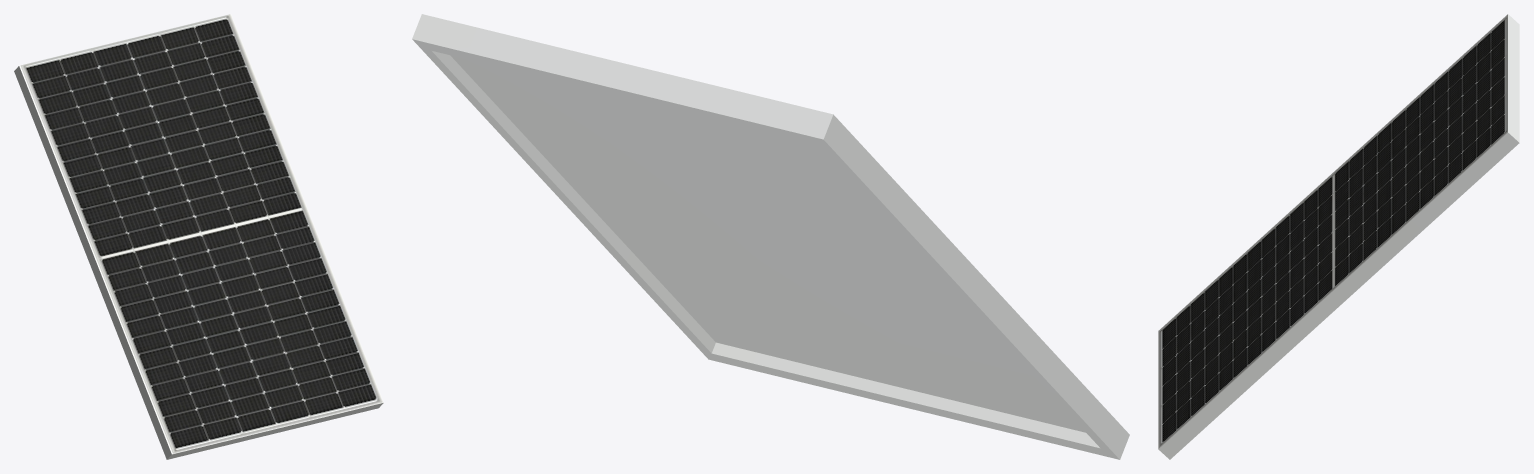
Rendered from solar_panel_fbx.glb.
3 views of the same model, side by side, from view 1: azimuth 30°, elevation 25°; view 2: azimuth 150°, elevation 25°; view 3: azimuth 270°, elevation 25° (orthographic). The views are drawn at different scales.
Parts seen in each view (by area): view 1: Cube; view 2: Cube; view 3: Cube.
Part boxes in pixels (x1,y1,x2,y2): Cube: (14,14,383,459); Cube: (412,14,1129,459); Cube: (1158,14,1519,459).
Bounding box in the file's own units: 1.7 × 2.19 × 2.19.
Materials: 1 (1 with a texture image).
